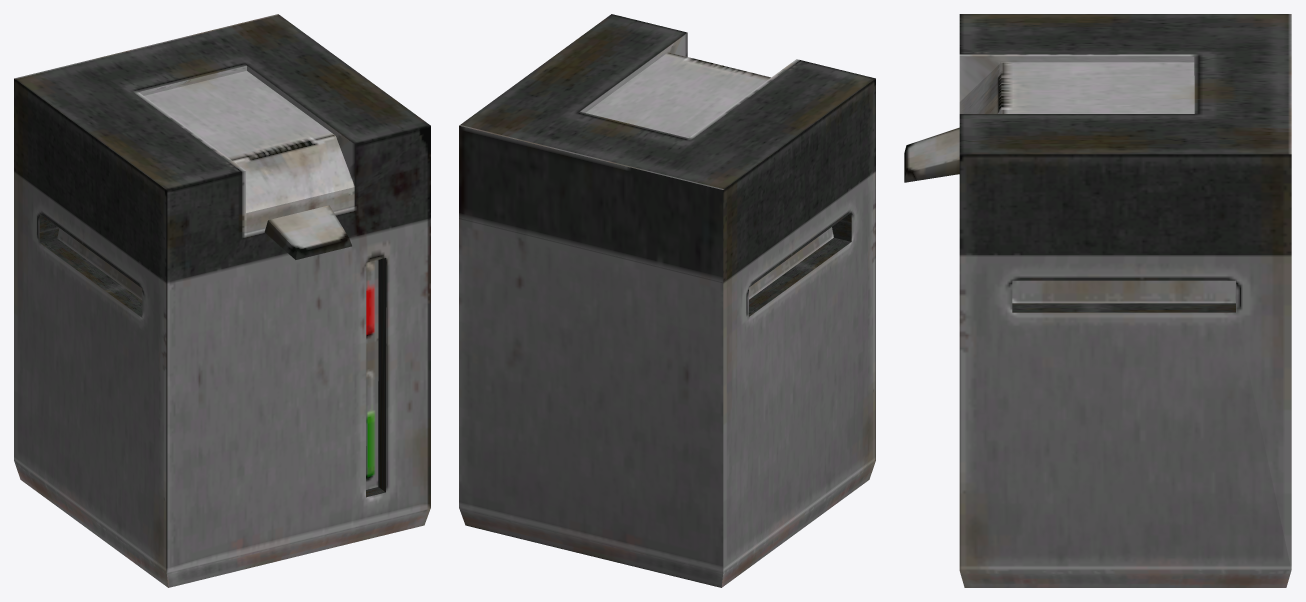
File: thm_prp_drall_medicine_l0.fbx
The picture shows the model from 3 angles, left to right: view 1: azimuth 30°, elevation 25°; view 2: azimuth 150°, elevation 25°; view 3: azimuth 270°, elevation 25°; orthographic projection. The views are drawn at different scales.
Parts seen in each view (by area): view 1: mesh_node; view 2: mesh_node; view 3: mesh_node.
Boxes of the visible parts, x1=… form: mesh_node: x1=14, y1=14, x2=430, y2=587; mesh_node: x1=459, y1=14, x2=875, y2=587; mesh_node: x1=904, y1=14, x2=1291, y2=587.
Bounding box in the file's own units: 0.2101 × 0.3043 × 0.2449.
